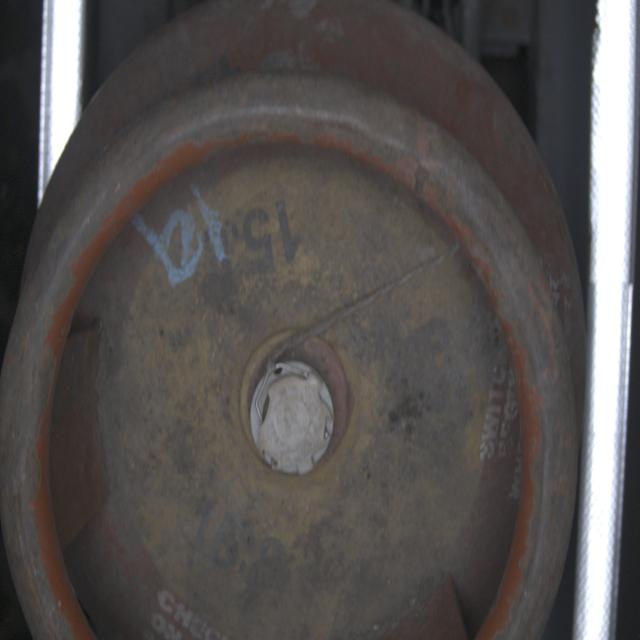Cap: (250, 359, 342, 483)
